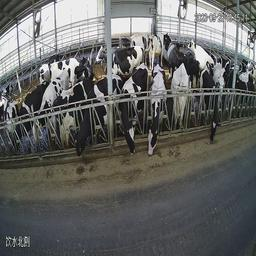cow: (118, 61, 149, 158), (75, 79, 108, 163), (7, 79, 36, 162), (147, 63, 167, 161), (199, 67, 223, 148), (172, 61, 190, 138), (37, 81, 56, 150), (96, 43, 142, 70), (57, 82, 74, 154), (188, 35, 213, 73), (47, 56, 88, 78), (149, 26, 169, 65), (2, 95, 17, 128), (129, 28, 149, 48), (37, 56, 48, 84)
